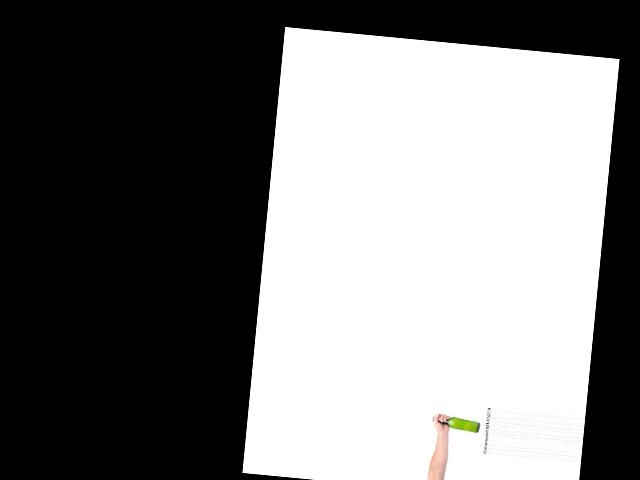beer: (432, 415, 480, 433)
